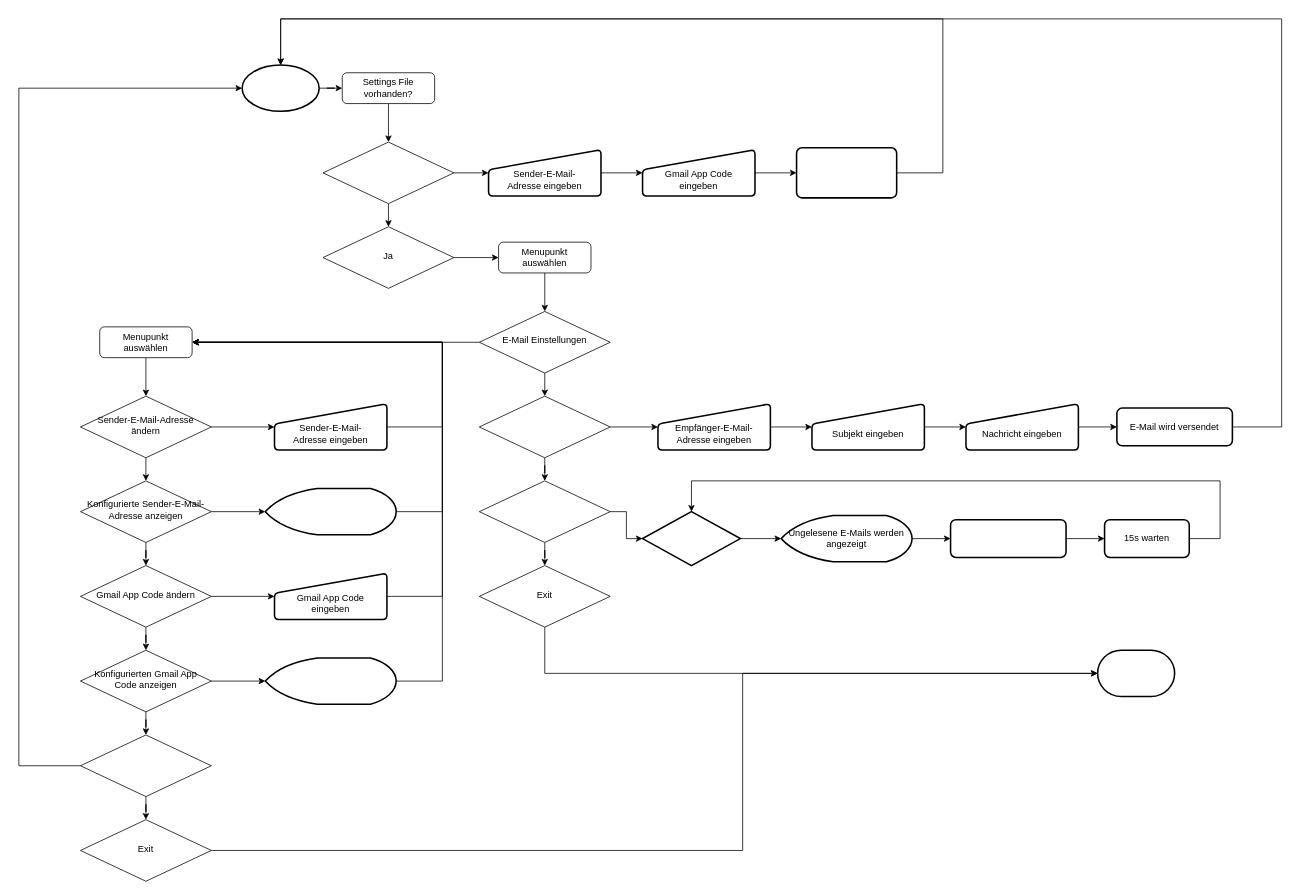
The diagram is 1301 pixels wide and 895 high, and some of its shapes have lost their labels. Here are the shapes that lost their labels. From the top down, the box of each, then its label:
(241, 64, 320, 112): Start
(322, 141, 454, 204): Nein
(795, 147, 897, 198): Tool speichert die Daten ab.
(479, 395, 610, 458): E-Mail Senden
(264, 487, 397, 535): Sender-E-Mail-Adresse wird angezeigt
(479, 480, 610, 542): E-Mail Empfangen
(641, 511, 741, 566): while True
(949, 519, 1066, 558): Log File wird gespeichert
(264, 657, 397, 705): Gmail App Code wird angezeigt
(1096, 649, 1175, 697): End
(80, 734, 211, 797): Zurück
